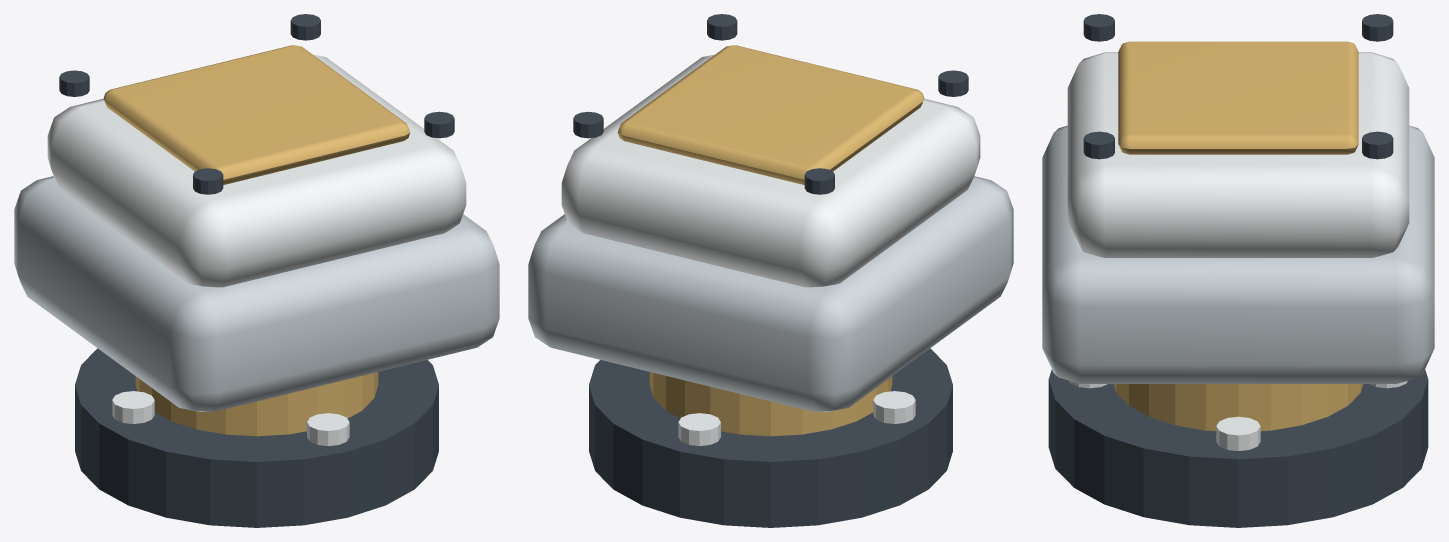
File: patch_antenna.glb
3 views of the same model, side by side, from view 1: azimuth 30°, elevation 25°; view 2: azimuth 150°, elevation 25°; view 3: azimuth 270°, elevation 25° (orthographic). The views are drawn at different scales.
Visible parts, largest first — view 1: Antenna_Base, Ceramic_Radome, Mount_Flange, Patch_Element, Mount_Collar, Mount_Bolt_003, Mount_Bolt_002, Fastener, Fastener_001, Fastener_002, Fastener_003; view 2: Antenna_Base, Ceramic_Radome, Mount_Flange, Patch_Element, Mount_Collar, Mount_Bolt_001, Mount_Bolt_002, Fastener_001, Fastener, Fastener_002, Fastener_003; view 3: Antenna_Base, Ceramic_Radome, Mount_Flange, Patch_Element, Mount_Collar, Mount_Bolt, Fastener_002, Fastener_003, Fastener, Fastener_001.
Boxes of the visible parts, box(x1,y1,x2,y2) form: Antenna_Base: box(14, 176, 499, 411); Ceramic_Radome: box(47, 54, 466, 287); Mount_Flange: box(75, 348, 438, 527); Patch_Element: box(103, 45, 410, 184); Mount_Collar: box(135, 372, 378, 436); Mount_Bolt_003: box(307, 413, 349, 446); Mount_Bolt_002: box(112, 391, 154, 423); Fastener: box(193, 168, 223, 194); Fastener_001: box(59, 70, 89, 96); Fastener_002: box(424, 111, 454, 138); Fastener_003: box(290, 14, 320, 40); Antenna_Base: box(528, 176, 1013, 411); Ceramic_Radome: box(561, 54, 980, 287); Mount_Flange: box(589, 348, 952, 527); Patch_Element: box(617, 45, 924, 184); Mount_Collar: box(649, 372, 892, 436); Mount_Bolt_001: box(678, 413, 720, 446); Mount_Bolt_002: box(873, 391, 915, 423); Fastener_001: box(804, 168, 834, 194); Fastener: box(938, 70, 968, 96); Fastener_002: box(707, 14, 737, 40); Fastener_003: box(573, 111, 603, 138); Antenna_Base: box(1042, 125, 1434, 383); Ceramic_Radome: box(1067, 52, 1409, 257); Mount_Flange: box(1048, 369, 1428, 527); Patch_Element: box(1118, 41, 1358, 154); Mount_Collar: box(1113, 384, 1363, 431); Mount_Bolt: box(1216, 416, 1260, 450); Fastener_002: box(1083, 131, 1114, 159); Fastener_003: box(1362, 131, 1393, 159); Fastener: box(1083, 14, 1114, 41); Fastener_001: box(1362, 14, 1393, 41).
Size of the model in its own units: 0.62 by 0.6425 by 0.62.
